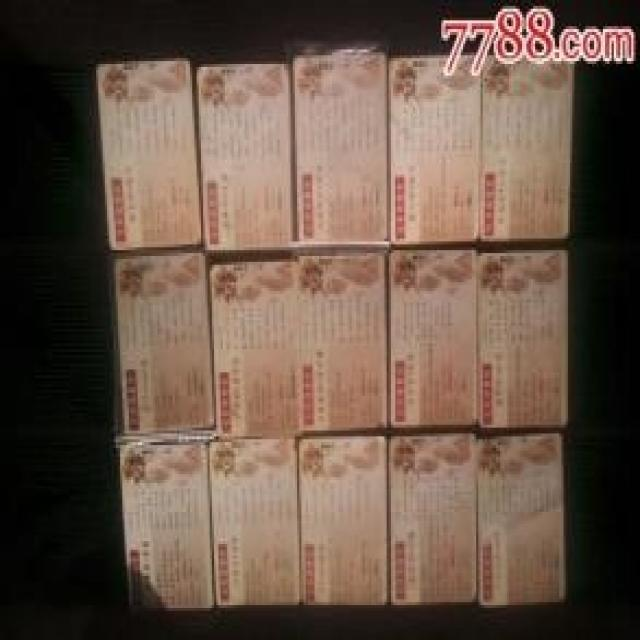box: (210, 250, 387, 439), (192, 58, 297, 262), (96, 58, 203, 253), (291, 52, 391, 256), (478, 47, 577, 250), (109, 250, 216, 436), (389, 49, 483, 253), (476, 250, 570, 433), (208, 439, 306, 611), (476, 428, 568, 611), (120, 439, 214, 617), (389, 250, 476, 433), (299, 433, 391, 605), (387, 431, 476, 605)
